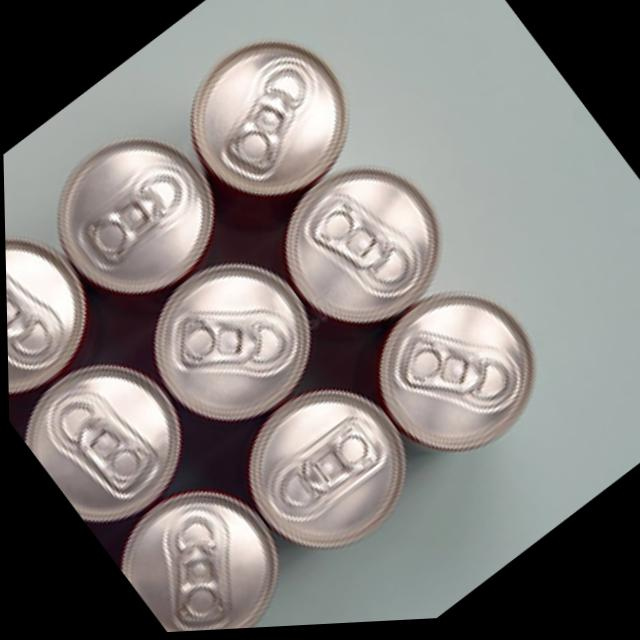aluminum_soda_cans: (214, 356, 439, 595), (339, 266, 569, 497), (153, 7, 380, 239), (26, 106, 242, 331), (256, 146, 468, 361), (125, 243, 333, 453), (7, 339, 196, 535), (102, 465, 301, 636), (4, 199, 113, 410)
